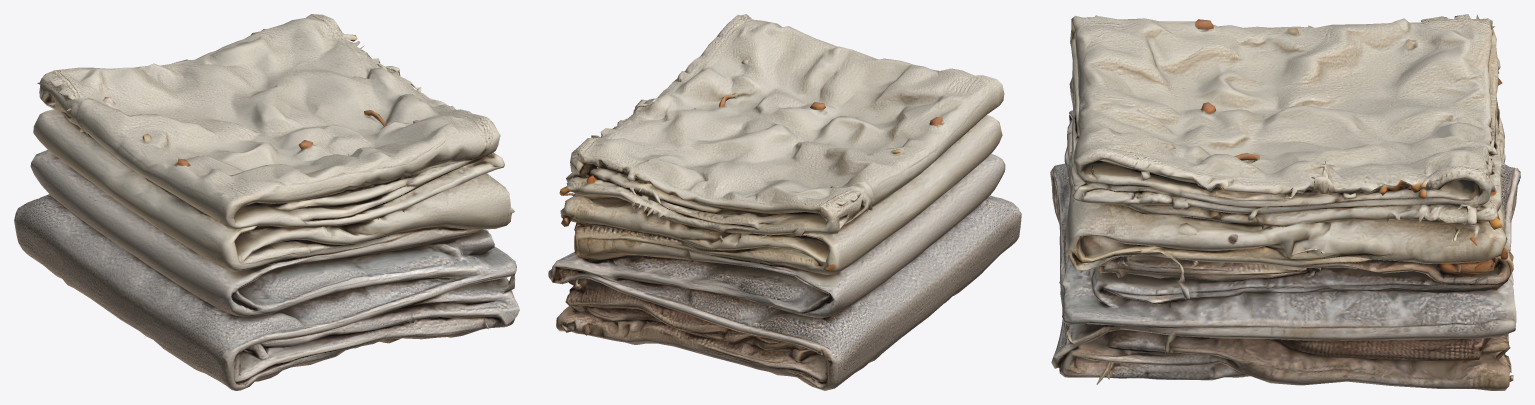
3 views of the same model, side by side, from view 1: azimuth 30°, elevation 25°; view 2: azimuth 150°, elevation 25°; view 3: azimuth 270°, elevation 25° (orthographic). The views are drawn at different scales.
Parts seen in each view (by area): view 1: tripo_node_ff0e9697-dbb4-45ca-bf11-514b9773ed69; view 2: tripo_node_ff0e9697-dbb4-45ca-bf11-514b9773ed69; view 3: tripo_node_ff0e9697-dbb4-45ca-bf11-514b9773ed69.
Part boxes in pixels (<box>): tripo_node_ff0e9697-dbb4-45ca-bf11-514b9773ed69: <box>14,14,519,390</box>; tripo_node_ff0e9697-dbb4-45ca-bf11-514b9773ed69: <box>548,14,1021,390</box>; tripo_node_ff0e9697-dbb4-45ca-bf11-514b9773ed69: <box>1050,14,1520,390</box>.
Size of the model in its own units: 0.8785 by 0.5654 by 1.
1 material, 1 textured.
